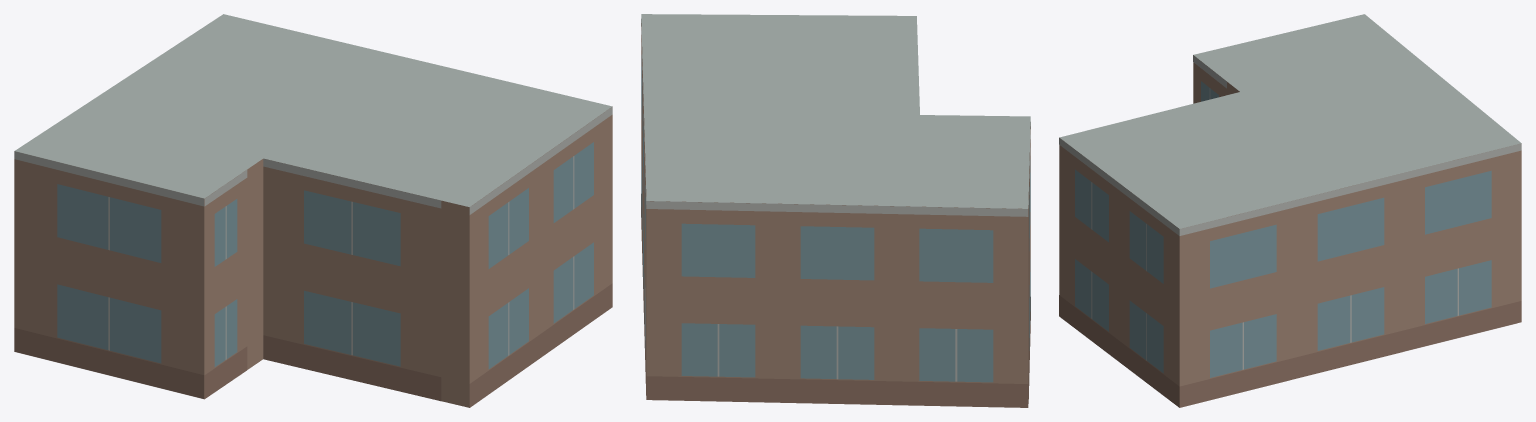
File: survey-upis-32703118.glb
3 views of the same model, side by side, from view 1: azimuth 30°, elevation 25°; view 2: azimuth 150°, elevation 25°; view 3: azimuth 270°, elevation 25° (orthographic). The views are drawn at different scales.
Visible parts, largest first — view 1: survey-upis-32703118.tmp; view 2: survey-upis-32703118.tmp; view 3: survey-upis-32703118.tmp.
Part boxes in pixels (box(x1,y1,x2,y2)): survey-upis-32703118.tmp: box(14, 14, 612, 407); survey-upis-32703118.tmp: box(641, 14, 1030, 407); survey-upis-32703118.tmp: box(1059, 14, 1521, 407).
Bounding box in the file's own units: 15.73 × 6.1 × 14.3.
